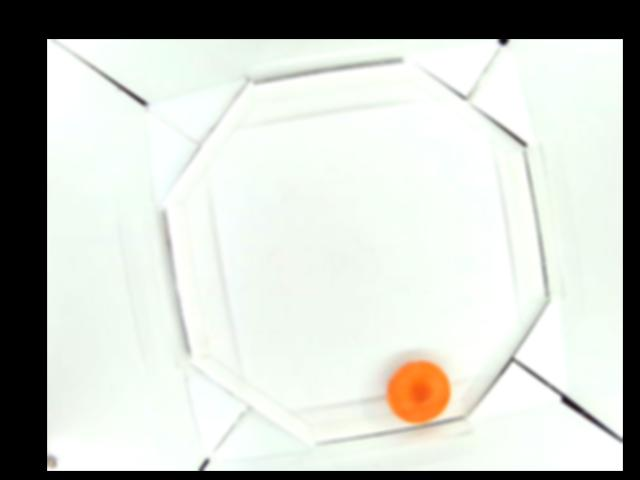Carrot: (386, 358, 451, 425)
